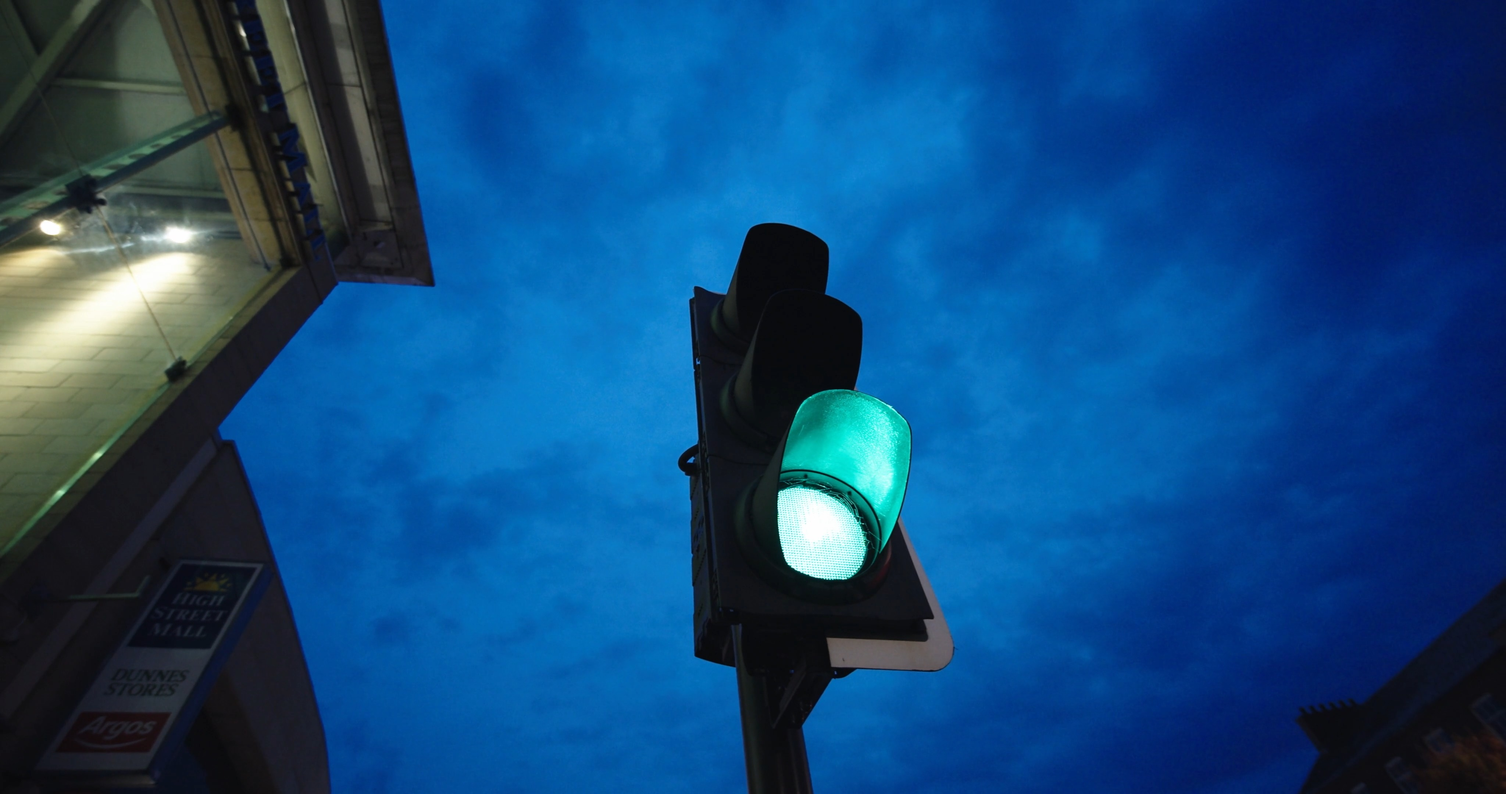green traffic light: (659, 212, 964, 688)
